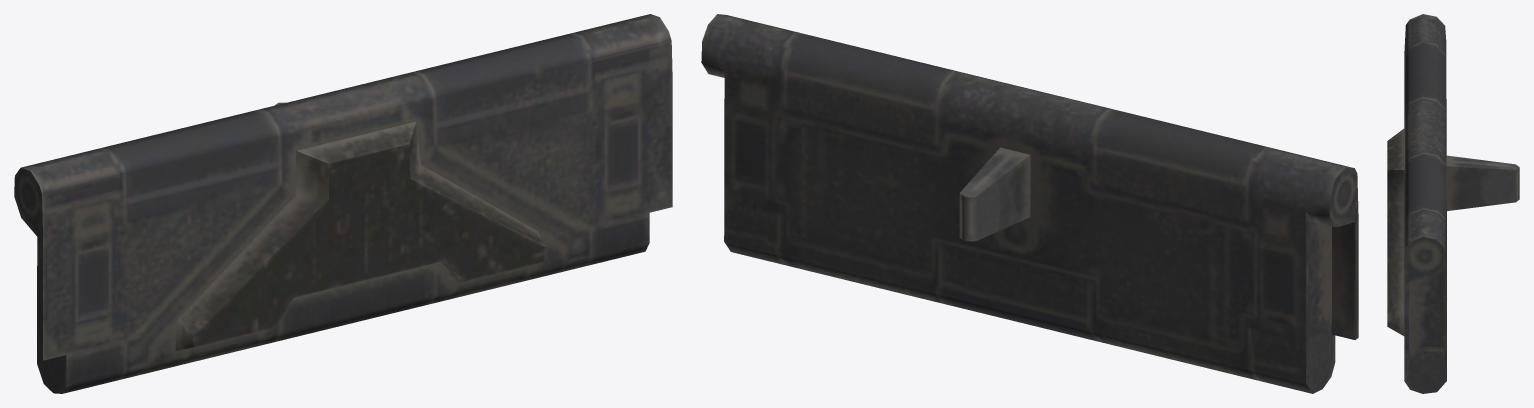
3 views of the same model, side by side, from view 1: azimuth 30°, elevation 25°; view 2: azimuth 150°, elevation 25°; view 3: azimuth 270°, elevation 25° (orthographic). The views are drawn at different scales.
Parts seen in each view (by area): view 1: set_0_group_0; view 2: set_0_group_0; view 3: set_0_group_0.
Part boxes in pixels (<box>): set_0_group_0: <box>14,14,672,393</box>; set_0_group_0: <box>701,14,1358,393</box>; set_0_group_0: <box>1387,14,1519,393</box>.
Bounding box in the file's own units: 0.6102 × 0.2113 × 0.1532.
1 material, 1 textured.
